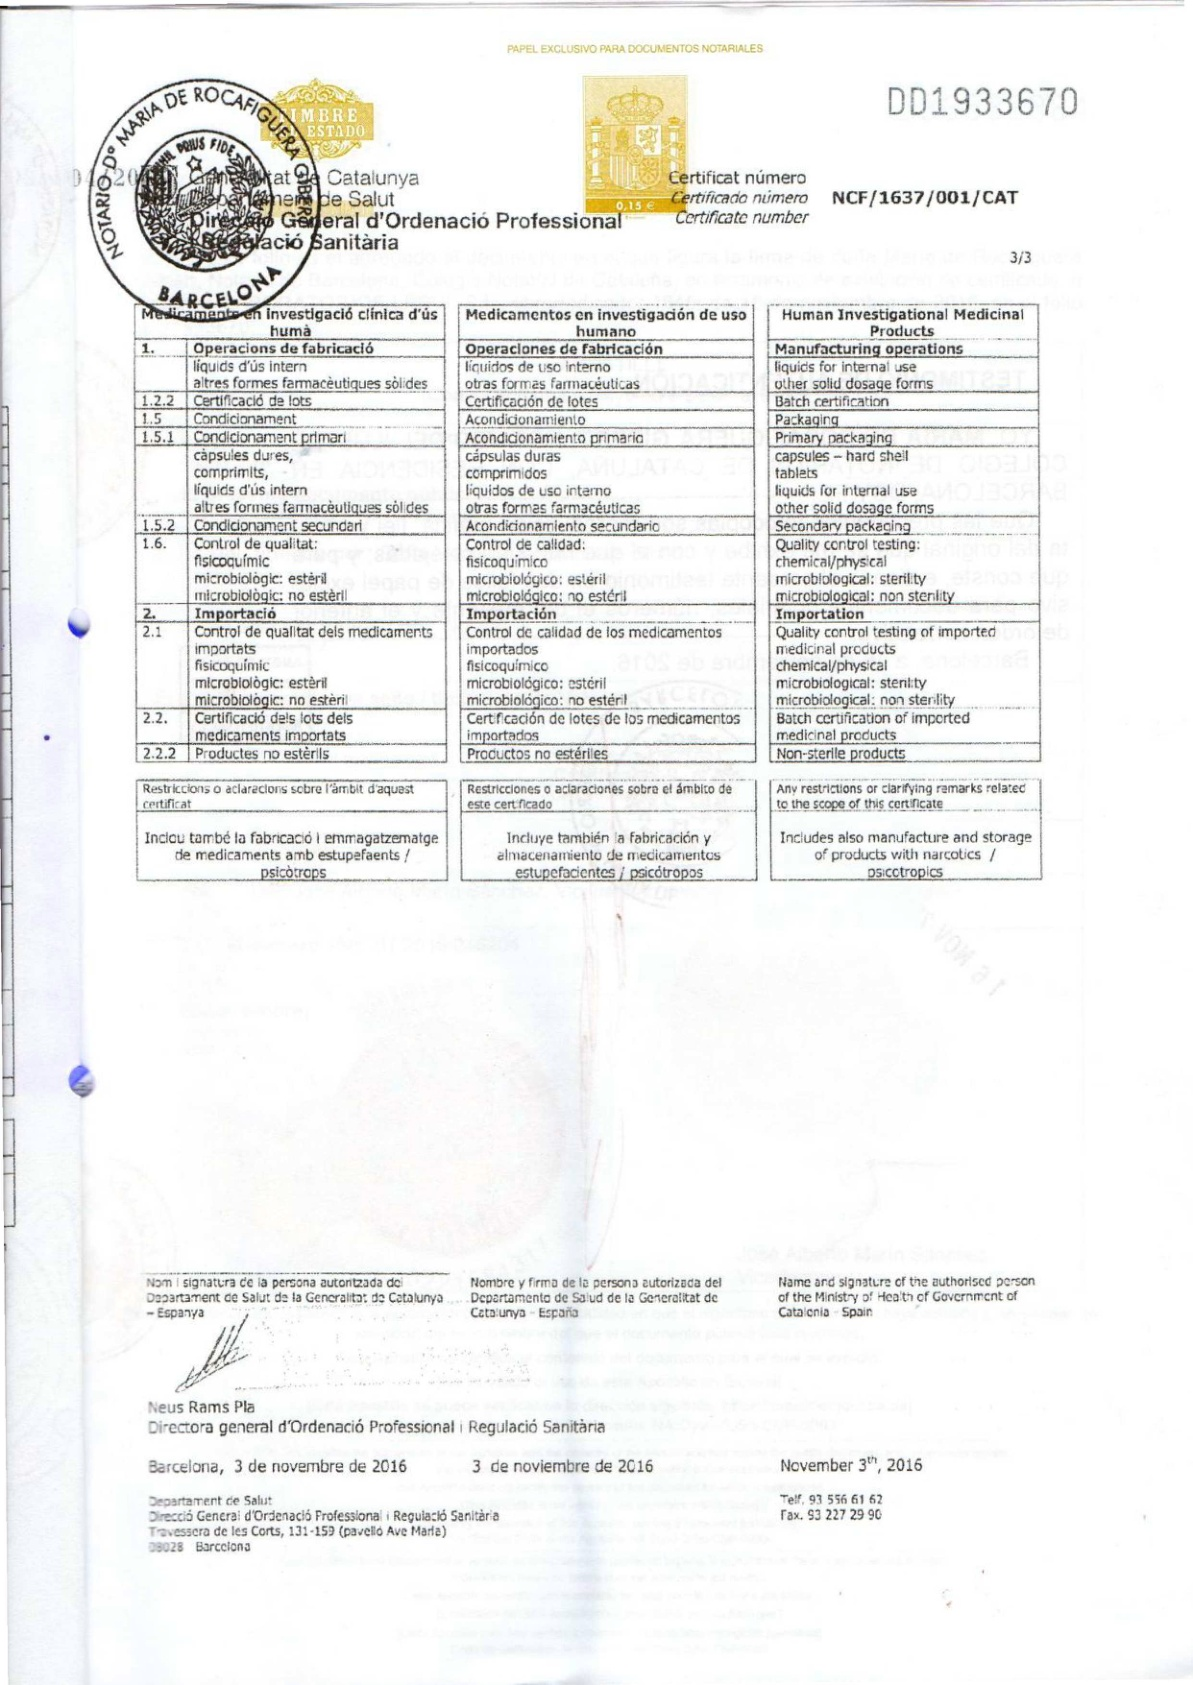full_lined: (456, 303, 757, 764), (766, 302, 1043, 764), (134, 779, 449, 883), (460, 779, 758, 882), (768, 776, 1043, 881)
merged_cells: (132, 302, 447, 764)
